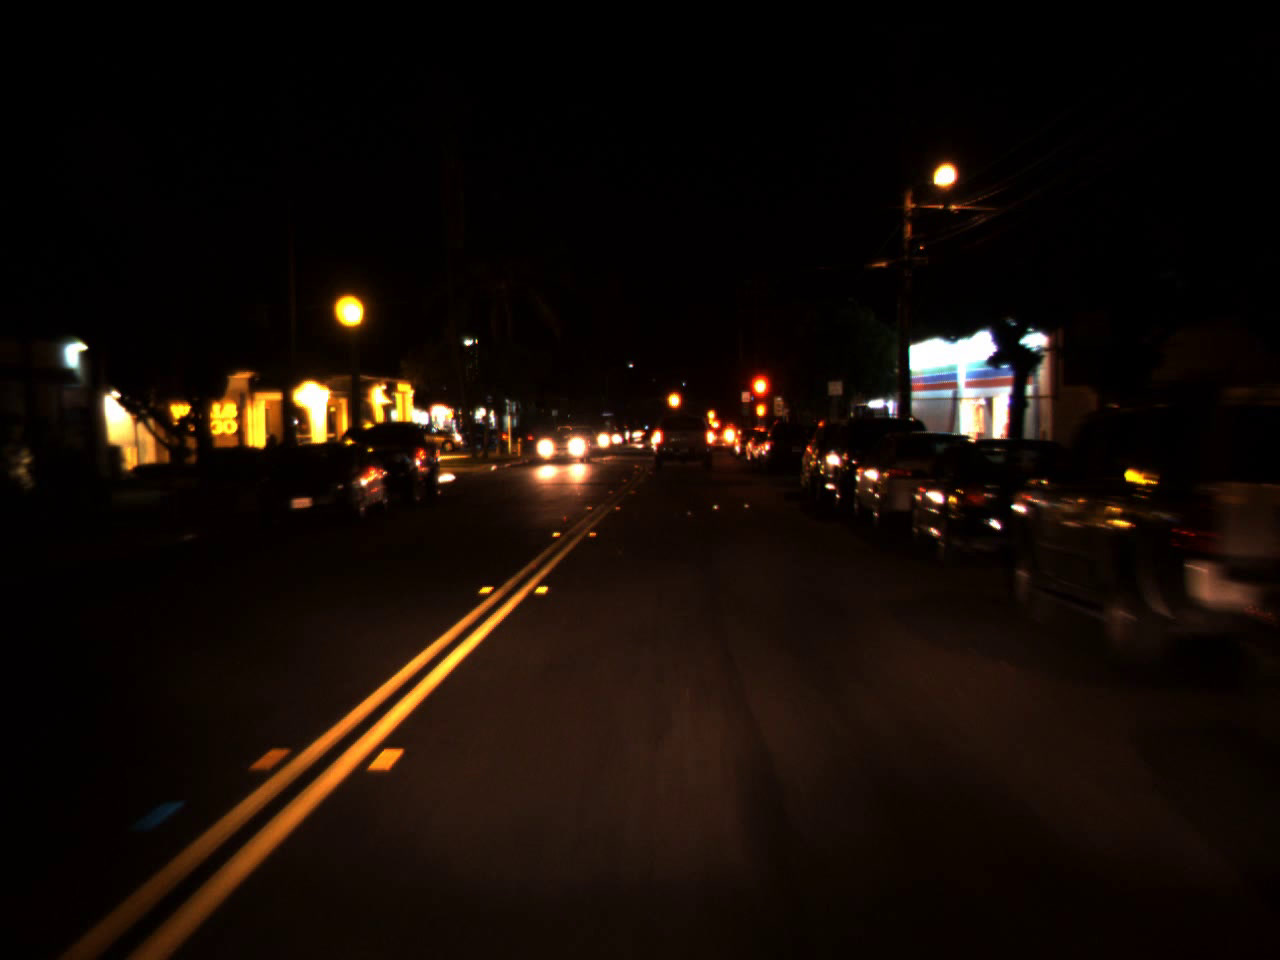stop: (747, 371, 774, 425)
warning: (664, 381, 683, 418), (707, 403, 716, 420)
